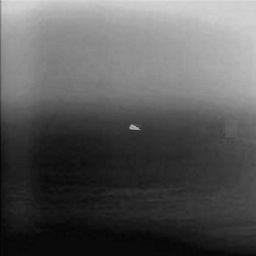Target: (128, 124, 140, 131)
